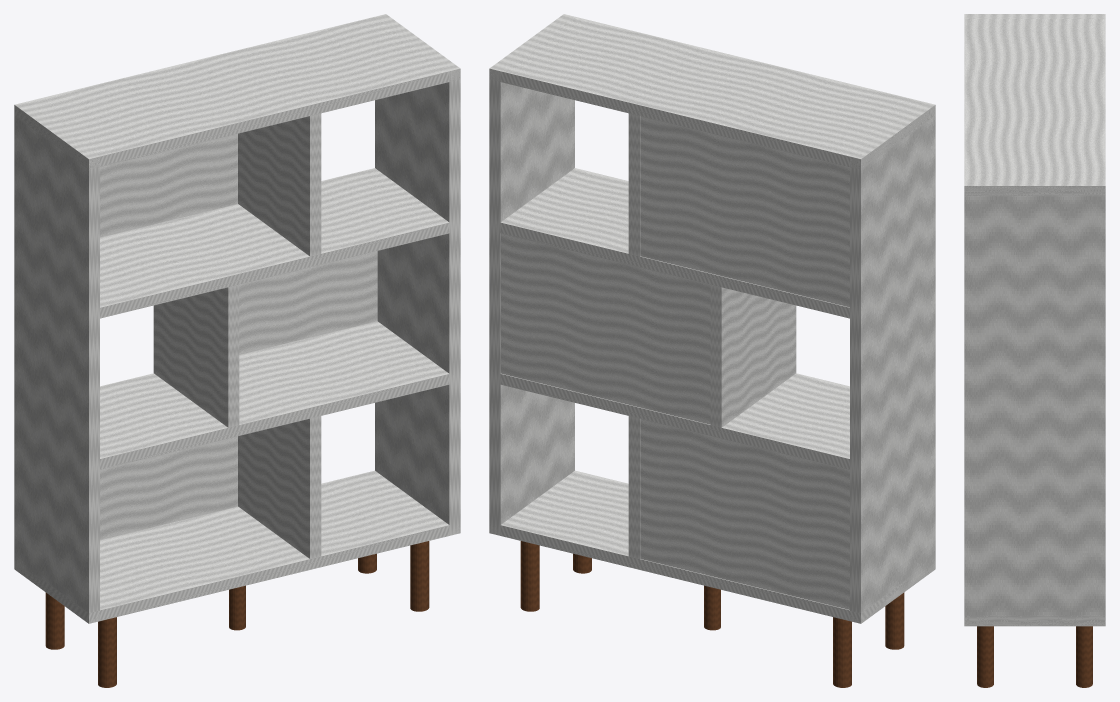
3 views of the same model, side by side, from view 1: azimuth 30°, elevation 25°; view 2: azimuth 150°, elevation 25°; view 3: azimuth 270°, elevation 25° (orthographic). The views are drawn at different scales.
Parts seen in each view (by area): view 1: 5 left_side_panel, 1 top_panel, 6 right_side_panel, 2 bottom_panel, 4 lower_shelf, 3 upper_shelf, 11 middle_back_panel, 10 top_back_panel, 12 bottom_back_panel, 8 middle_tier_divider, 7 top_tier_divider, 9 bottom_tier_divider (+4 smaller); view 2: 5 left_side_panel, 1 top_panel, 10 top_back_panel, 11 middle_back_panel, 12 bottom_back_panel, 6 right_side_panel, 2 bottom_panel, 3 upper_shelf, 4 lower_shelf, 8 middle_tier_divider, 7 top_tier_divider, 9 bottom_tier_divider (+4 smaller); view 3: 6 right_side_panel, 1 top_panel, 2 bottom_panel, 14 front_right_leg, 16 back_right_leg, 5 left_side_panel.
Part boxes in pixels (x1=…): 5 left_side_panel: x1=14, y1=103, x2=99, y2=622; 1 top_panel: x1=14, y1=14, x2=460, y2=169; 6 right_side_panel: x1=375, y1=14, x2=460, y2=535; 2 bottom_panel: x1=14, y1=470, x2=460, y2=623; 4 lower_shelf: x1=100, y1=321, x2=449, y2=469; 3 upper_shelf: x1=100, y1=168, x2=449, y2=318; 11 middle_back_panel: x1=239, y1=251, x2=377, y2=354; 10 top_back_panel: x1=100, y1=133, x2=237, y2=237; 12 bottom_back_panel: x1=100, y1=436, x2=237, y2=539; 8 middle_tier_divider: x1=153, y1=285, x2=239, y2=427; 7 top_tier_divider: x1=238, y1=113, x2=321, y2=256; 9 bottom_tier_divider: x1=238, y1=416, x2=321, y2=558; 5 left_side_panel: x1=850, y1=102, x2=935, y2=623; 1 top_panel: x1=489, y1=14, x2=935, y2=169; 10 top_back_panel: x1=640, y1=116, x2=849, y2=307; 11 middle_back_panel: x1=501, y1=233, x2=710, y2=424; 12 bottom_back_panel: x1=640, y1=419, x2=849, y2=609; 6 right_side_panel: x1=489, y1=14, x2=574, y2=535; 2 bottom_panel: x1=489, y1=470, x2=935, y2=623; 3 upper_shelf: x1=500, y1=168, x2=849, y2=318; 4 lower_shelf: x1=500, y1=373, x2=849, y2=469; 8 middle_tier_divider: x1=710, y1=285, x2=796, y2=427; 7 top_tier_divider: x1=628, y1=113, x2=640, y2=256; 9 bottom_tier_divider: x1=628, y1=416, x2=640, y2=558; 6 right_side_panel: x1=964, y1=180, x2=1105, y2=626; 1 top_panel: x1=964, y1=14, x2=1105, y2=195; 2 bottom_panel: x1=964, y1=616, x2=1105, y2=626; 14 front_right_leg: x1=977, y1=626, x2=993, y2=687; 16 back_right_leg: x1=1076, y1=626, x2=1092, y2=687; 5 left_side_panel: x1=964, y1=14, x2=1105, y2=18.
Size of the model in its own units: 0.72 by 1 by 0.25.
Materials: 2 (2 with a texture image).
